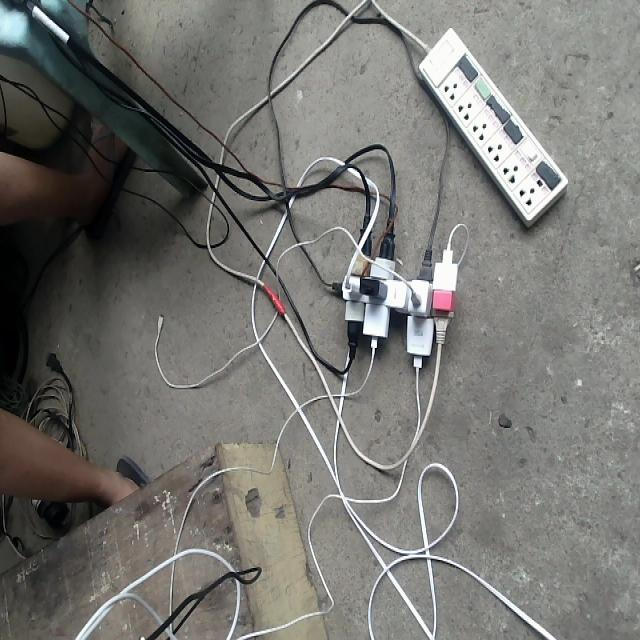-: (327, 215, 458, 368)
